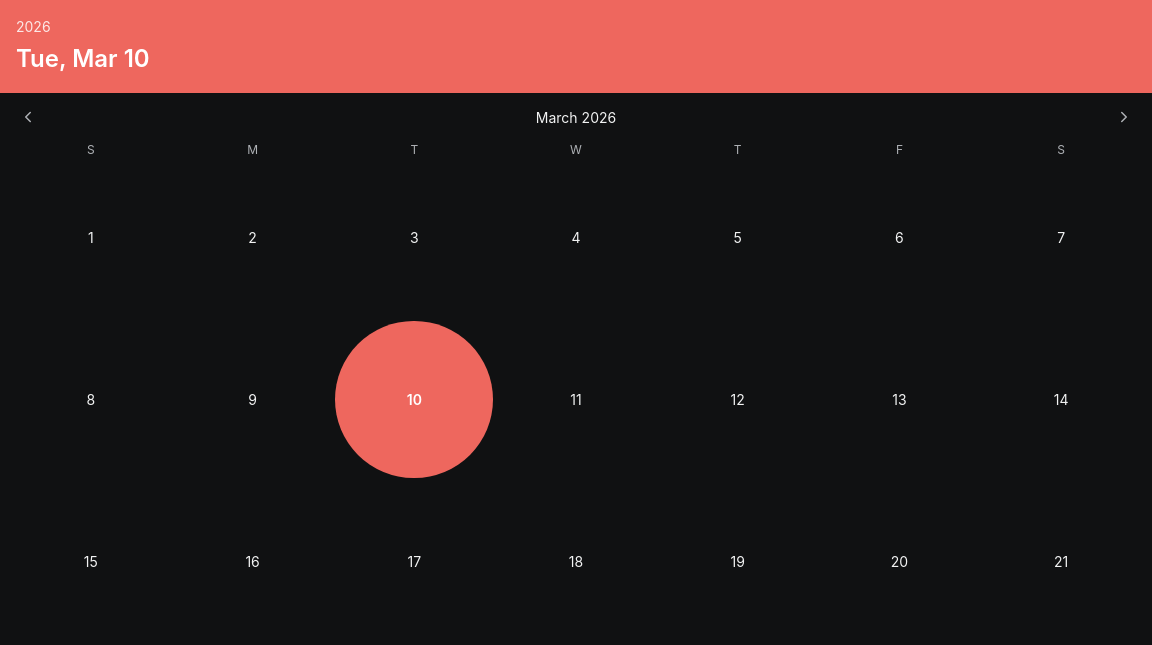
Test: MaterialDatePicker › browses months without disturbing the pending day
Click the button named "Next month" at (1124, 117), box left=1108, top=101, right=1140, bottom=133
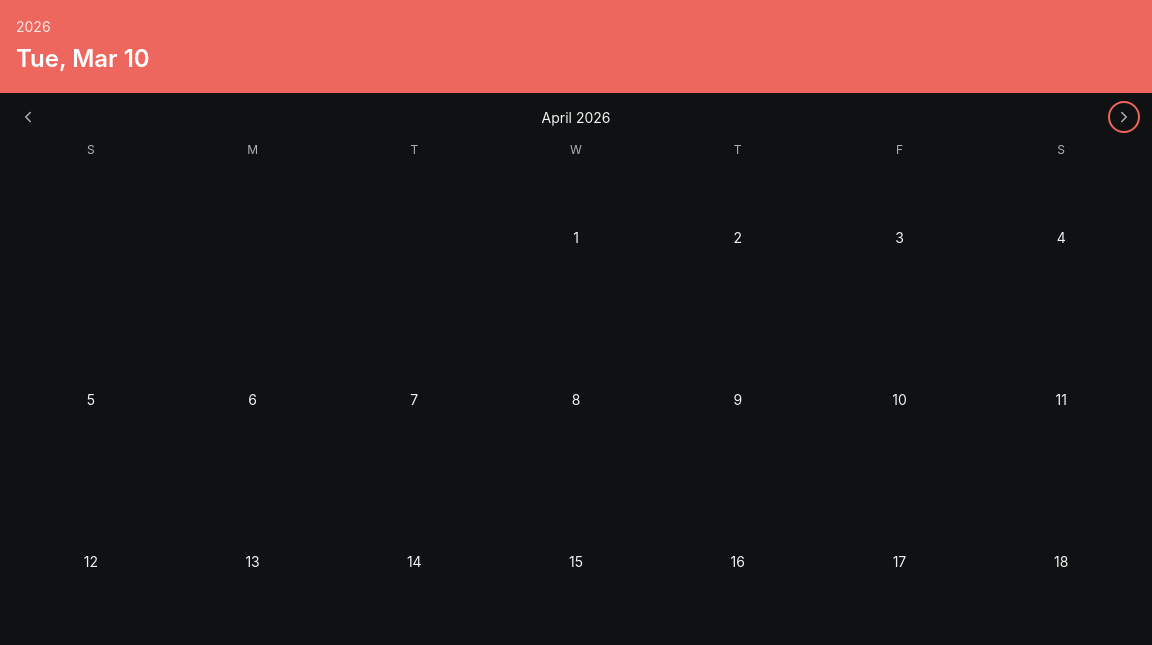
Expected: the text "Tue, Mar 10" is shown, left=16, top=44, right=150, bottom=73
Now the text "April 2026" is shown, box left=542, top=108, right=610, bottom=126
